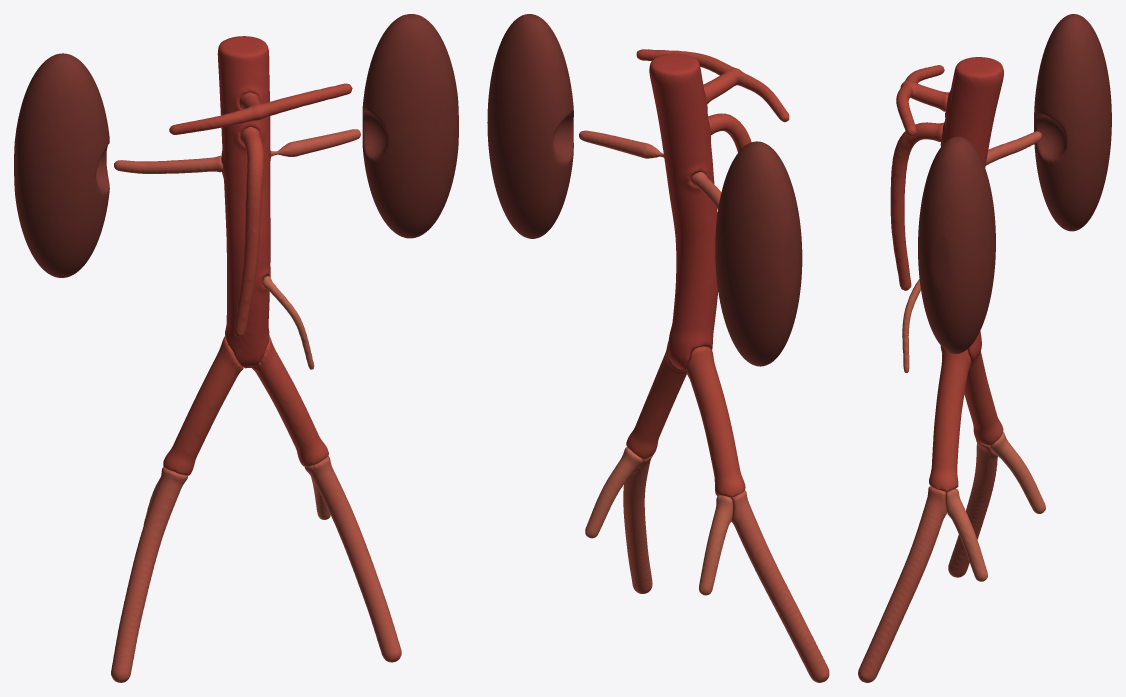
File: artery_ras.glb
3 views of the same model, side by side, from view 1: azimuth 30°, elevation 25°; view 2: azimuth 150°, elevation 25°; view 3: azimuth 270°, elevation 25° (orthographic). The views are drawn at different scales.
Visible parts, largest first — view 1: kidneys, aorta, external_iliacs, common_iliacs, superior_mesenteric, celiac_trunk, renal_arteries, inferior_mesenteric; view 2: kidneys, aorta, external_iliacs, common_iliacs, internal_iliacs, celiac_trunk, renal_arteries, superior_mesenteric; view 3: kidneys, external_iliacs, common_iliacs, aorta, internal_iliacs, superior_mesenteric, celiac_trunk, renal_arteries, inferior_mesenteric.
Part boxes in pixels (box(x1,y1,x2,y2)): kidneys: box(14, 14, 458, 277); aorta: box(217, 36, 270, 368); external_iliacs: box(111, 455, 401, 682); common_iliacs: box(163, 336, 328, 475); superior_mesenteric: box(233, 127, 263, 337); celiac_trunk: box(169, 83, 352, 134); renal_arteries: box(114, 129, 360, 173); inferior_mesenteric: box(262, 276, 314, 369); kidneys: box(487, 14, 802, 366); aorta: box(649, 53, 718, 370); external_iliacs: box(623, 455, 829, 682); common_iliacs: box(626, 341, 745, 497); internal_iliacs: box(585, 447, 732, 595); celiac_trunk: box(636, 49, 789, 122); renal_arteries: box(579, 130, 721, 209); superior_mesenteric: box(708, 113, 751, 152); kidneys: box(918, 14, 1111, 353); external_iliacs: box(858, 438, 997, 682); common_iliacs: box(929, 349, 1003, 491); aorta: box(940, 57, 1003, 363); internal_iliacs: box(945, 432, 1045, 581); superior_mesenteric: box(890, 122, 943, 290); celiac_trunk: box(896, 65, 949, 136); renal_arteries: box(985, 131, 1041, 165); inferior_mesenteric: box(902, 279, 920, 372).
Bounding box in the file's own units: 17.44 × 26.79 × 10.72.
